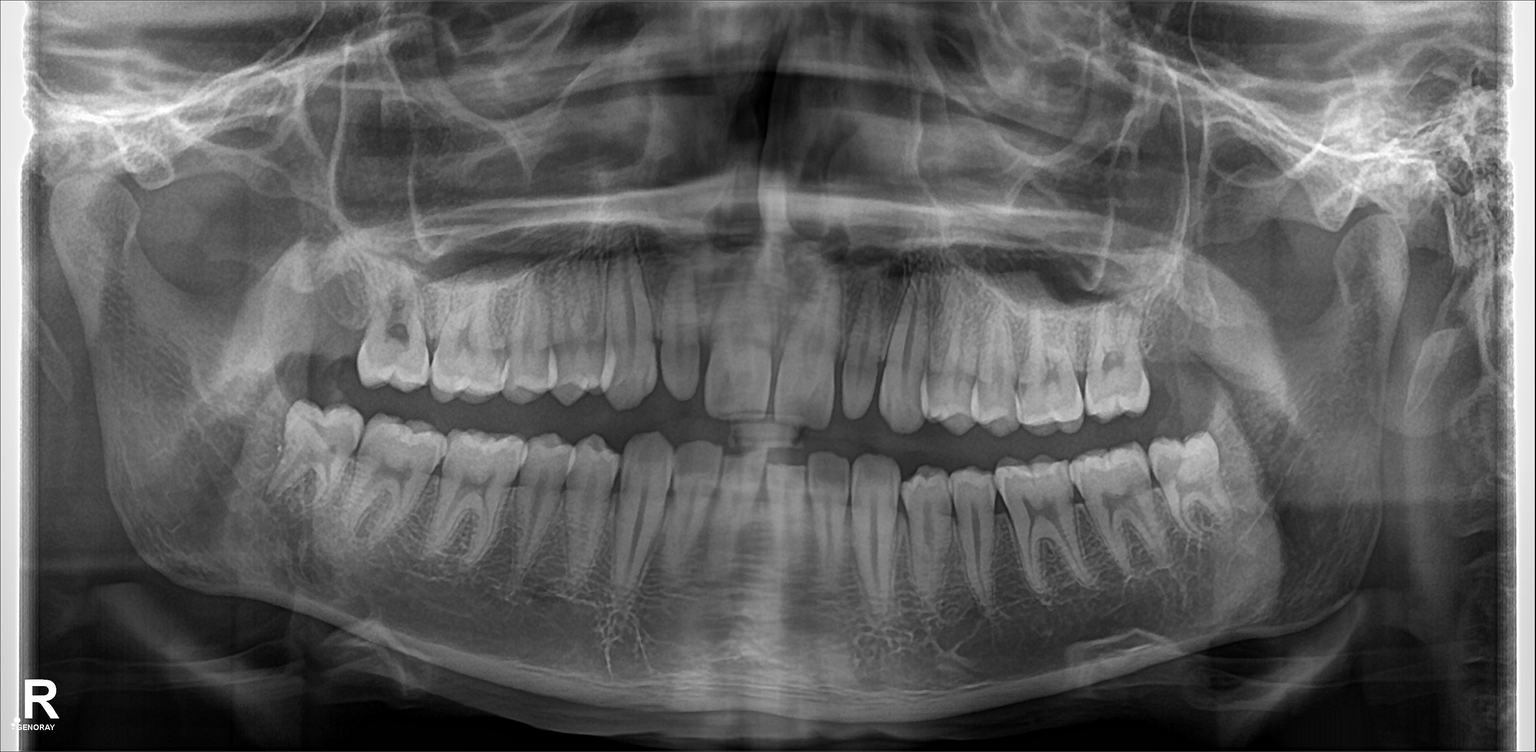Impacted Third Molar: (259, 400, 359, 509)
Missing Tooth: (298, 275, 366, 387), (1145, 292, 1190, 411)
